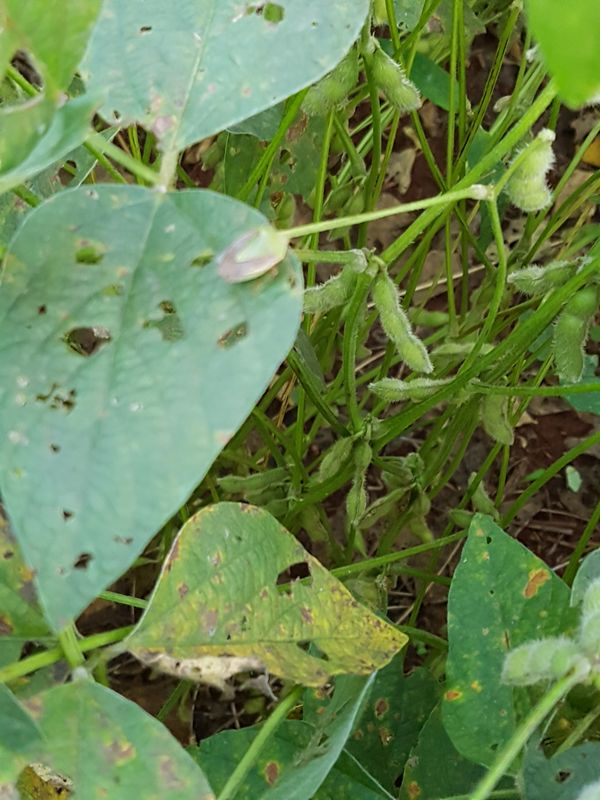Edessa_meditabunda: (196, 213, 304, 300)
